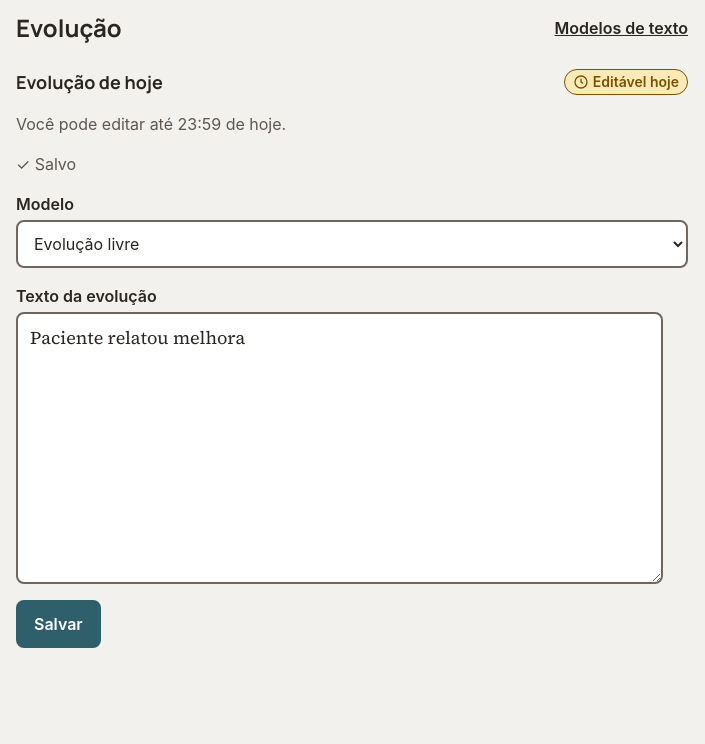
Scenario: Meia-noite com a tela aberta (EVO-04, EVO-05) › EDIT_WINDOW_CLOSED recusa a gravação, mantém o texto e oferece retificar
Replace the text in the text box labelled "Texto da evolução" with "Texto escrito perto da meia-noite" at point(340, 448), box [16,312,664,584]
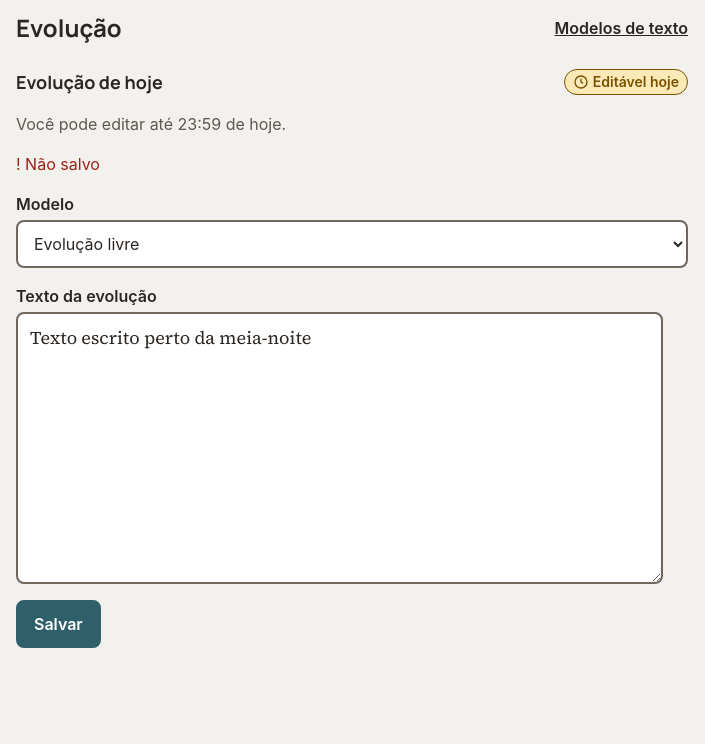
Click the button "Salvar" at point(58, 624), box [16,600,101,648]
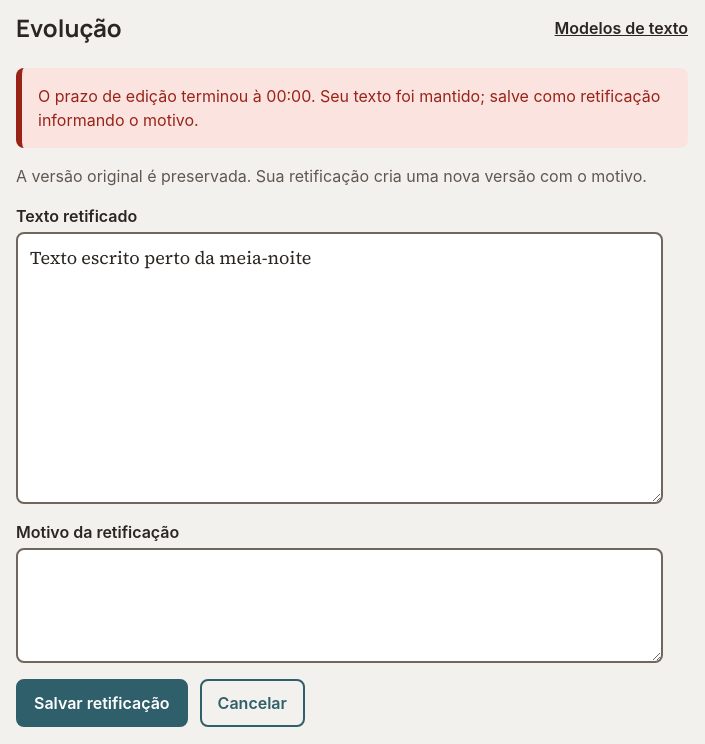
Result: the text box labelled "Texto retificado" holds "Texto escrito perto da meia-noite" at [16,232,664,504]
Result: the text "O prazo de edição terminou à 00:00" is shown at [38,86,660,130]
